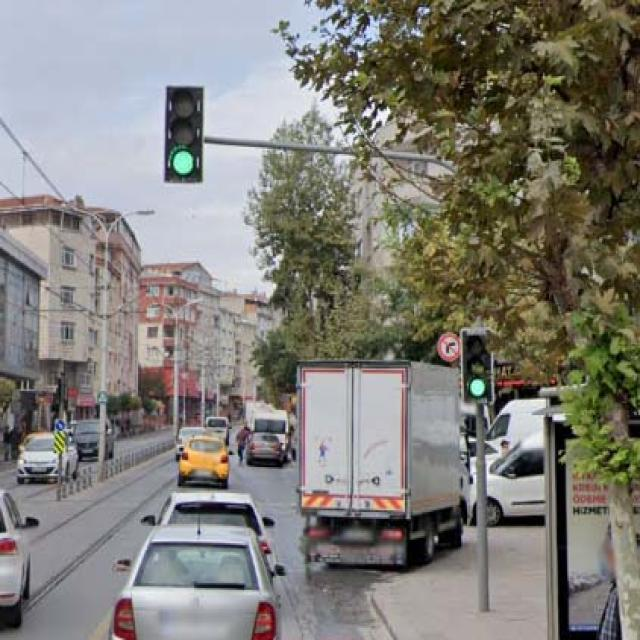sagadonulmez: (438, 332, 461, 360)
yesil: (165, 86, 202, 182), (462, 329, 493, 403)
